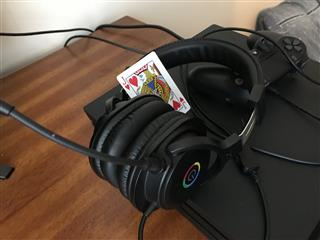JackOfHearts: (115, 50, 191, 113)
